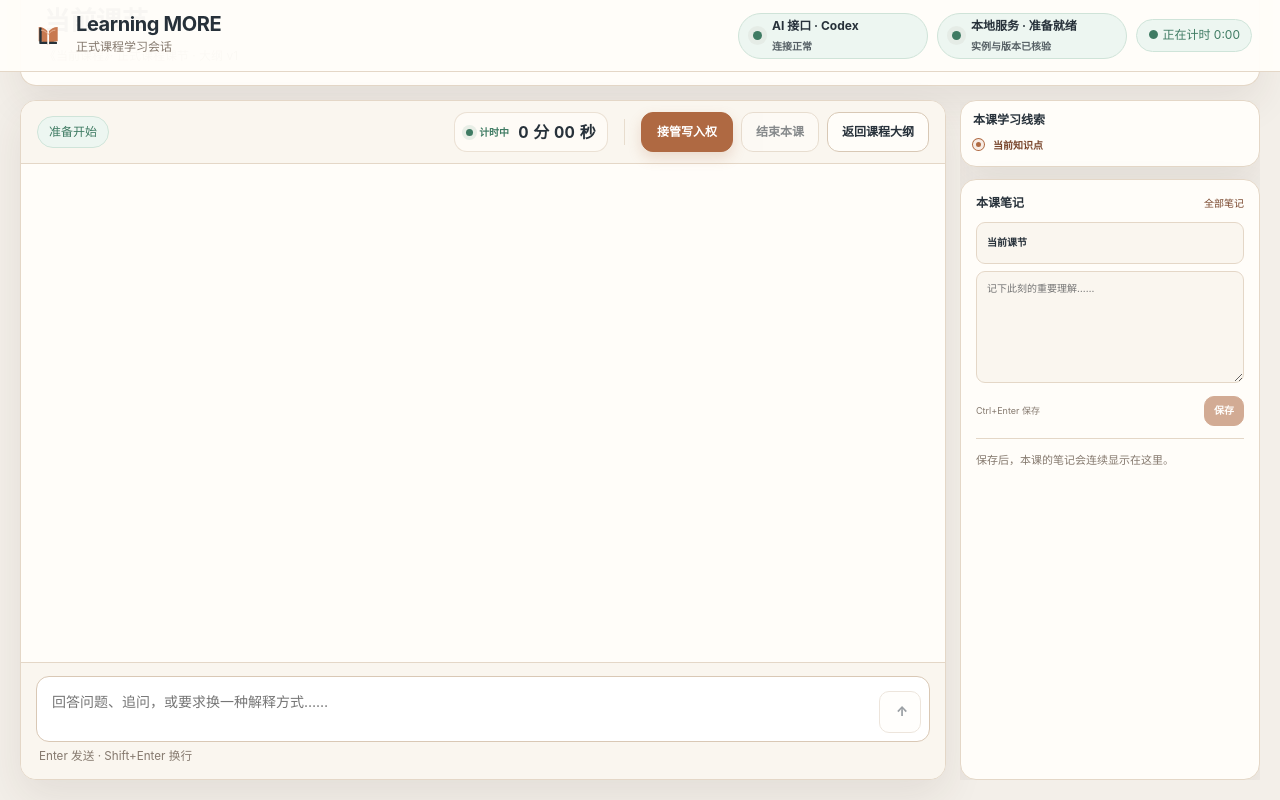
Test: learning SessionPage › submits a non-empty learner draft instead of treating it as system continuation
(page scrolled)
Type "实施和服务拖累了体验" into the text box named "学习输入" at x=458, y=709, box [45, 685, 870, 733]
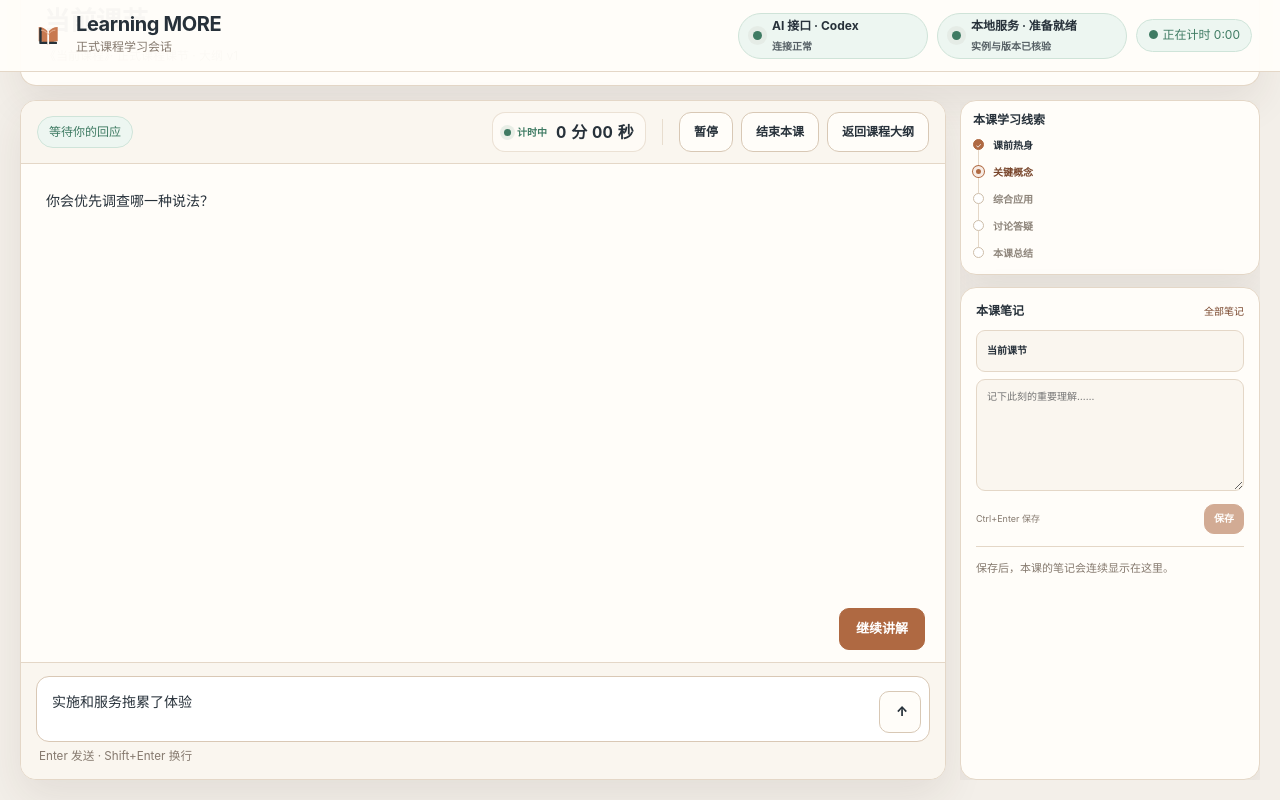
Click the button "继续讲解" at x=882, y=629, box [839, 608, 925, 650]
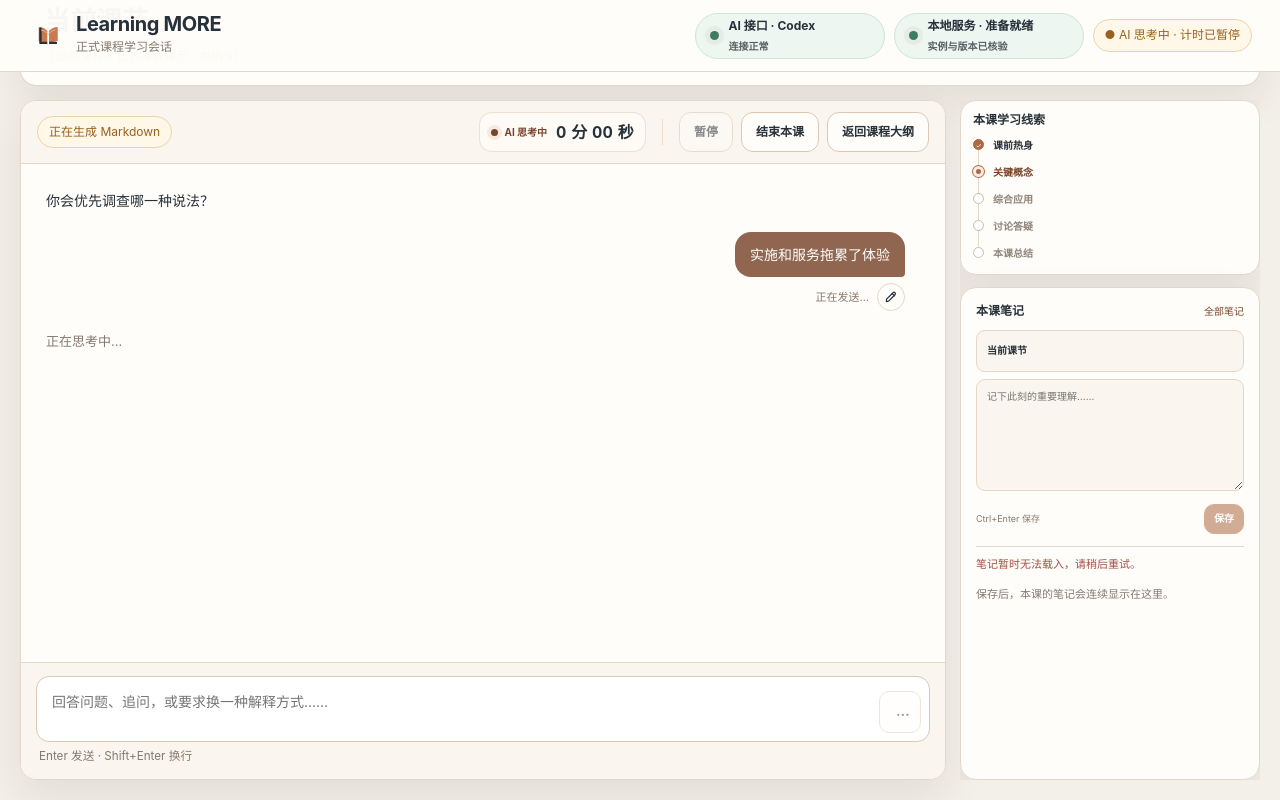
Check: the text "实施和服务拖累了体验" is shown, box [735, 232, 905, 278]
